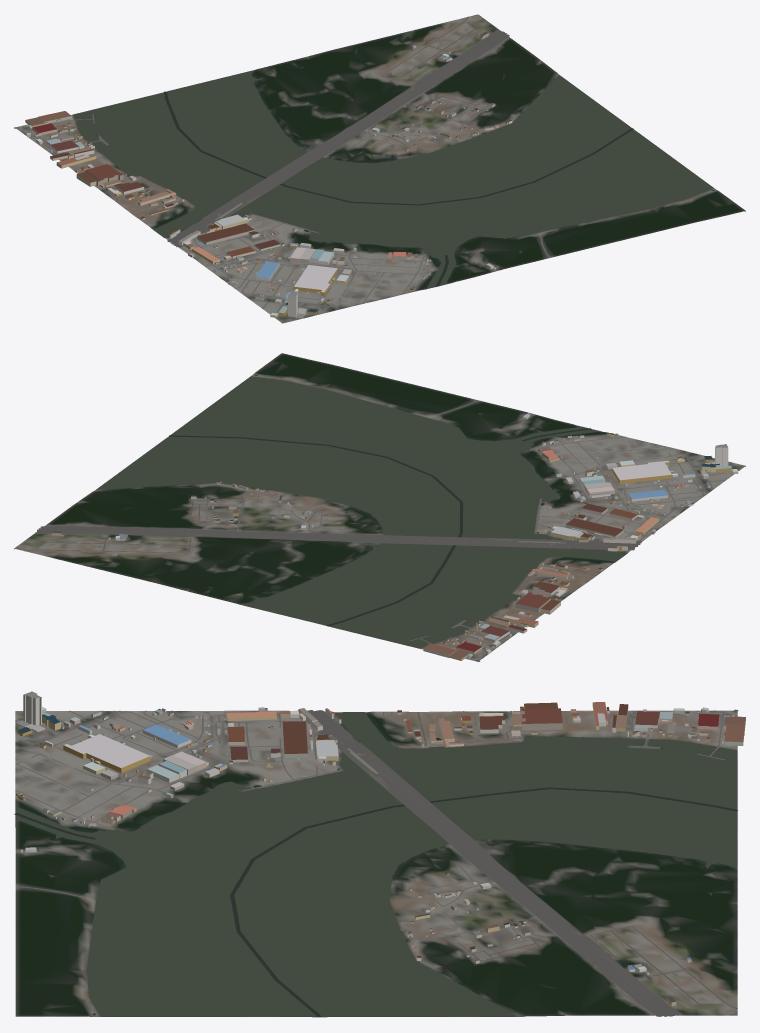
The picture shows the model from 3 angles, top to bottom: view 1: azimuth 30°, elevation 25°; view 2: azimuth 150°, elevation 25°; view 3: azimuth 270°, elevation 25°; orthographic projection. The views are drawn at different scales.
Parts seen in each view (by area): view 1: water, ground, buildings, roads; view 2: water, ground, buildings, roads; view 3: water, ground, buildings, roads.
Part boxes in pixels (bbox=[...]): water: bbox=[73, 70, 714, 288]; ground: bbox=[17, 14, 745, 323]; buildings: bbox=[25, 32, 512, 318]; roads: bbox=[14, 15, 550, 319]; water: bbox=[96, 374, 626, 648]; ground: bbox=[14, 353, 745, 661]; buildings: bbox=[52, 413, 738, 660]; roads: bbox=[16, 400, 731, 661]; water: bbox=[14, 712, 737, 1017]; ground: bbox=[15, 710, 737, 1017]; buildings: bbox=[15, 691, 745, 1006]; roads: bbox=[15, 709, 738, 1016].
Size of the model in its own units: 1429 by 64.06 by 1420.
